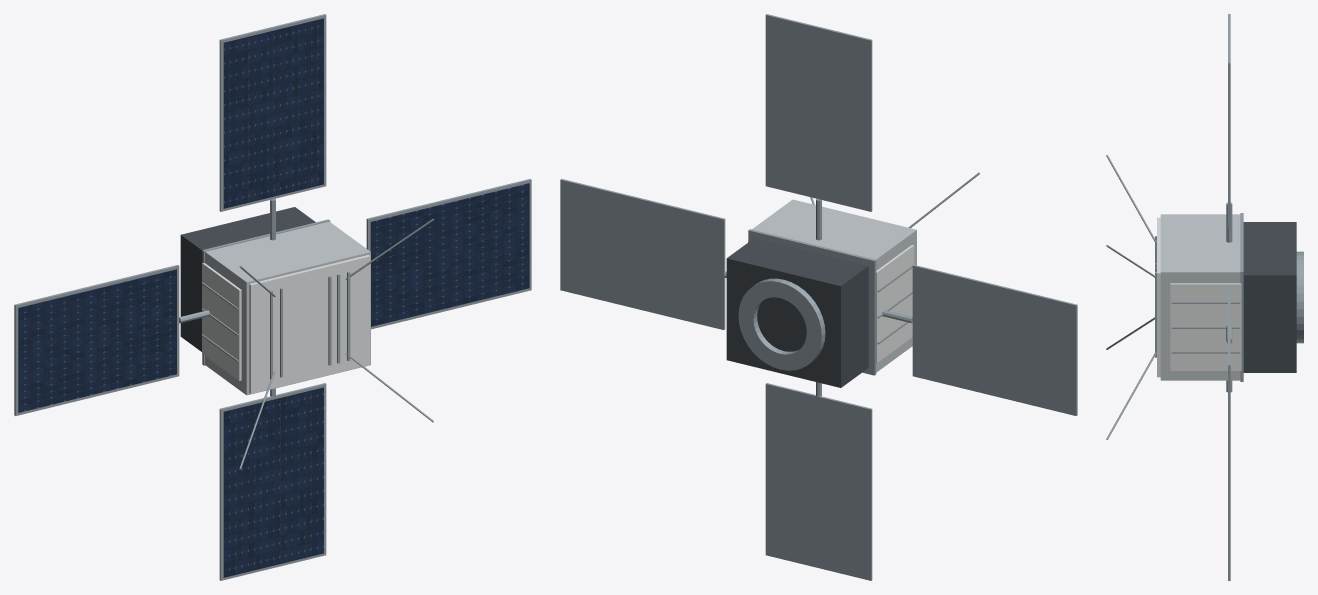
The model's file is ref-ov2-3428.glb.
The picture shows the model from 3 angles, left to right: view 1: azimuth 30°, elevation 25°; view 2: azimuth 150°, elevation 25°; view 3: azimuth 270°, elevation 25°; orthographic projection. The views are drawn at different scales.
Visible parts, largest first — view 1: Solar cell panel (×4), Earth-facing deck, Radial paddle frame (×4), Payload module, Service module, Radiator face; view 2: Radial paddle frame (×4), Service module, Payload module, Launch adapter ring, Radiator face, Module interface; view 3: Service module, Payload module, Radiator face, Radial paddle frame (×3), Launch adapter ring, Earth-facing deck, Module interface.
Boxes of the visible parts, left/top/right/bottom form: Solar cell panel (×4): left=18, top=18, right=529, bottom=577; Earth-facing deck: left=249, top=255, right=370, bottom=393; Radial paddle frame (×4): left=14, top=14, right=531, bottom=580; Payload module: left=205, top=221, right=370, bottom=395; Service module: left=180, top=207, right=315, bottom=351; Radiator face: left=202, top=263, right=241, bottom=380; Radial paddle frame (×4): left=560, top=14, right=1077, bottom=580; Service module: left=726, top=238, right=868, bottom=387; Payload module: left=752, top=199, right=916, bottom=372; Launch adapter ring: left=738, top=278, right=825, bottom=370; Radiator face: left=875, top=245, right=914, bottom=362; Module interface: left=748, top=229, right=876, bottom=375; Service module: left=1243, top=222, right=1296, bottom=372; Payload module: left=1160, top=214, right=1240, bottom=380; Radiator face: left=1170, top=283, right=1241, bottom=370; Radial paddle frame (×3): left=1228, top=14, right=1230, bottom=580; Launch adapter ring: left=1296, top=251, right=1303, bottom=343; Earth-facing deck: left=1157, top=217, right=1160, bottom=377; Module interface: left=1240, top=213, right=1243, bottom=381.
Bounding box in the file's own units: 2.49 × 2.49 × 0.8629.
Materials: 5 (1 with a texture image).
